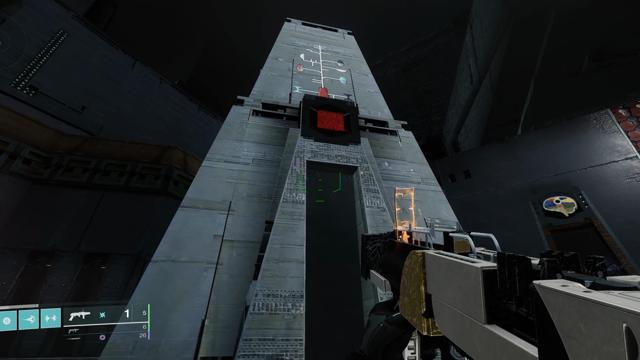brain: (537, 192, 583, 219)
stop: (309, 102, 351, 138)
